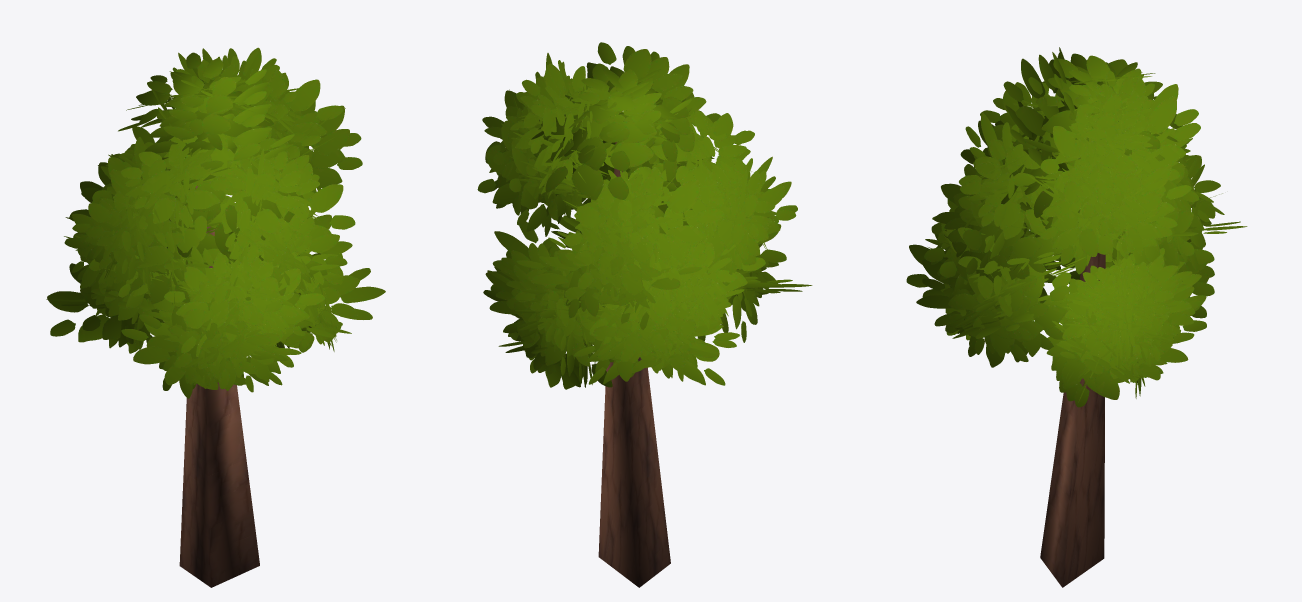
File: commontree-1-lo.glb
The picture shows the model from 3 angles, left to right: view 1: azimuth 30°, elevation 25°; view 2: azimuth 150°, elevation 25°; view 3: azimuth 270°, elevation 25°; orthographic projection. The views are drawn at different scales.
Visible parts, largest first — view 1: CommonTree_1; view 2: CommonTree_1; view 3: CommonTree_1.
Part boxes in pixels (x1=…): CommonTree_1: x1=46, y1=47, x2=385, y2=587; CommonTree_1: x1=477, y1=42, x2=812, y2=587; CommonTree_1: x1=906, y1=47, x2=1247, y2=587.
Bounding box in the file's own units: 4.78 × 7.61 × 5.2.
Materials: 2 (2 with a texture image).
